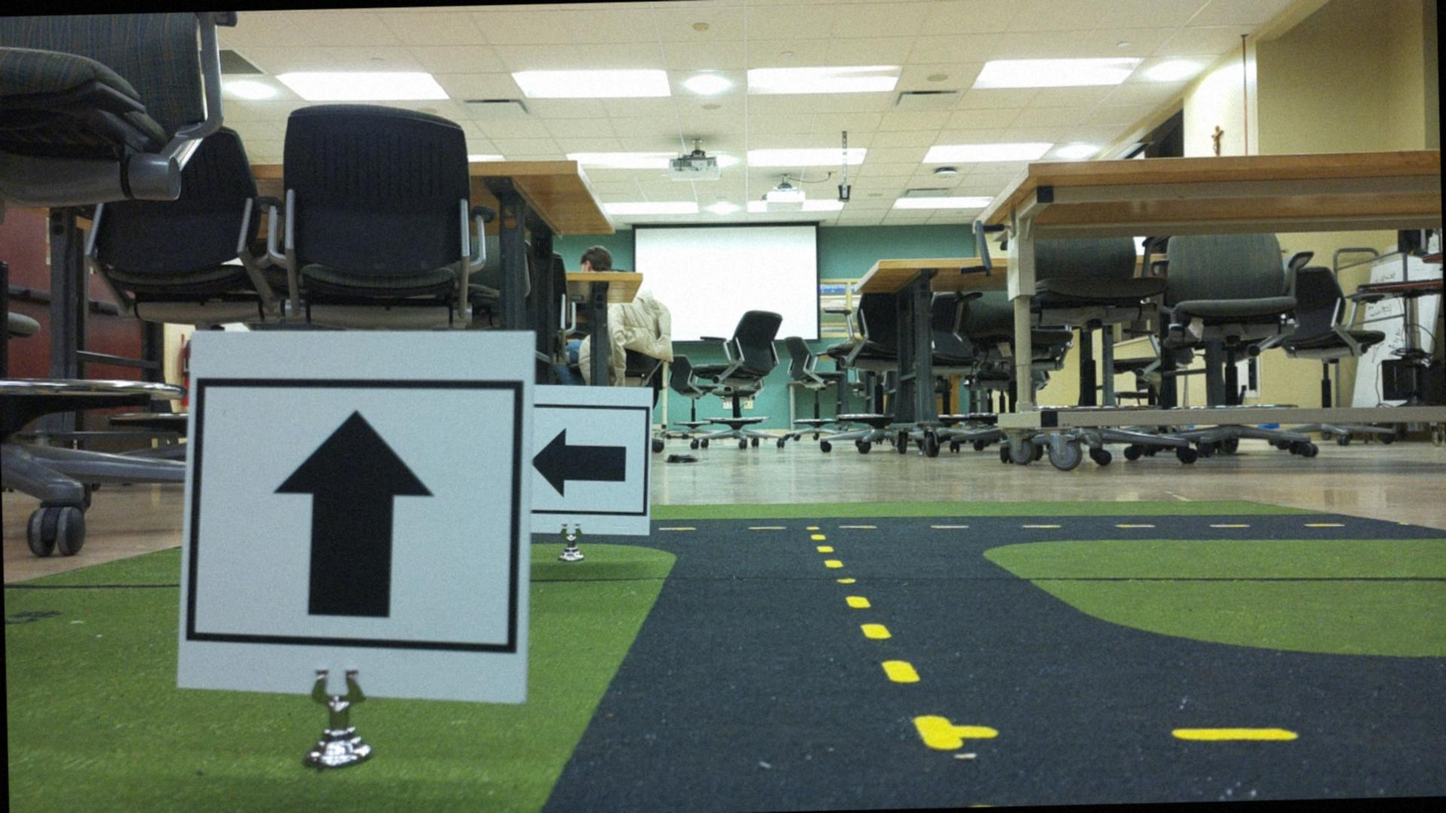gostraight: (198, 333, 524, 701)
turnleft: (526, 403, 647, 531)
yellowline: (813, 529, 959, 753)
